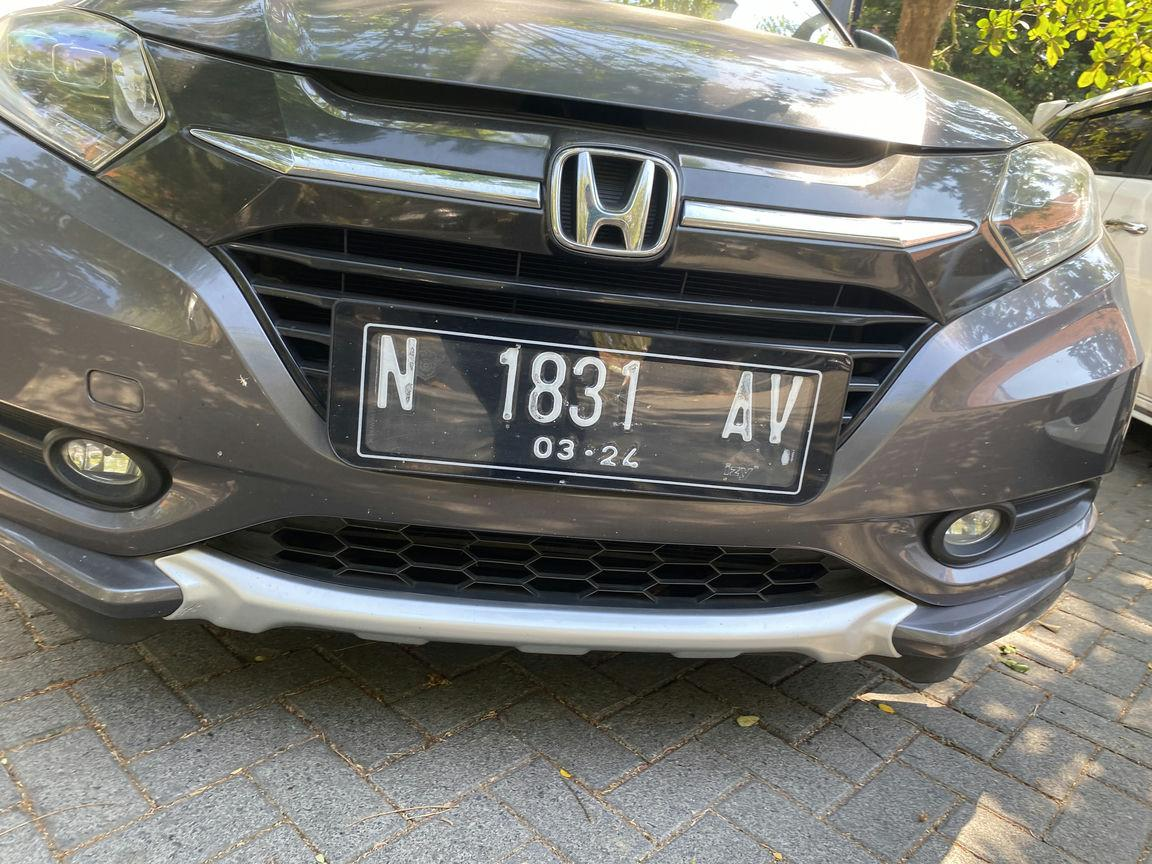plat: (360, 325, 824, 494)
